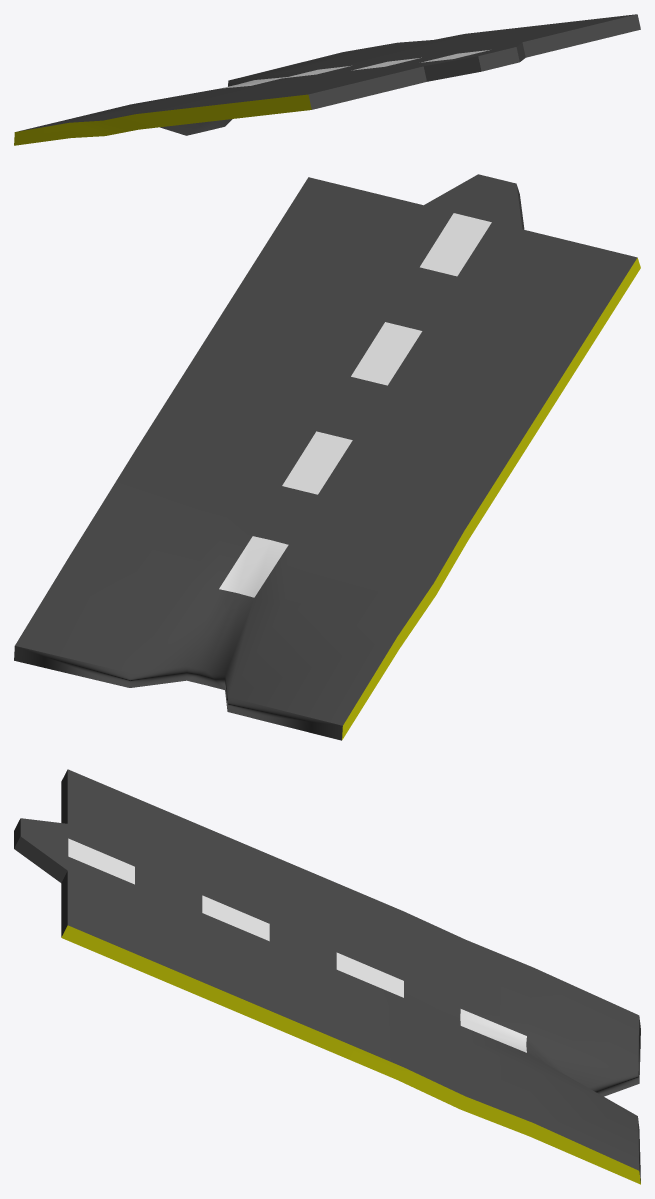
The model's file is Forward ramp 1 (Start).fbx.
The picture shows the model from 3 angles, top to bottom: view 1: azimuth 30°, elevation 25°; view 2: azimuth 150°, elevation 25°; view 3: azimuth 270°, elevation 25°; orthographic projection. The views are drawn at different scales.
Visible parts, largest first — view 1: forward_ramp_1; view 2: forward_ramp_1; view 3: forward_ramp_1.
Part boxes in pixels (x1,y1,x2,y2): forward_ramp_1: [14, 14, 640, 145]; forward_ramp_1: [14, 174, 640, 740]; forward_ramp_1: [14, 769, 640, 1184].
Bounding box in the file's own units: 8.57 × 7.26 × 14.48.
